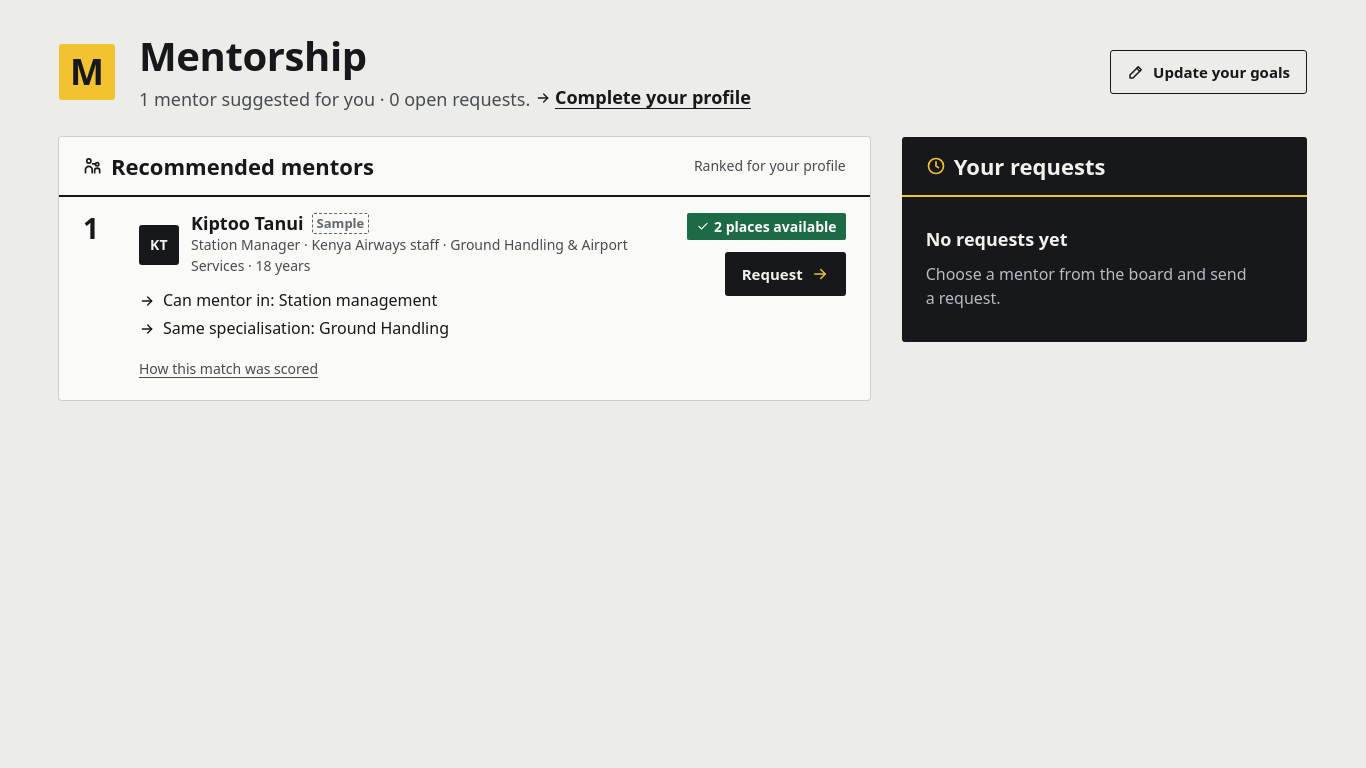
Test: Mentorship for a mentee › sends a request with the recommendation it came from
Click the button "Request". click: click(785, 274)
box: [725,252,846,296]
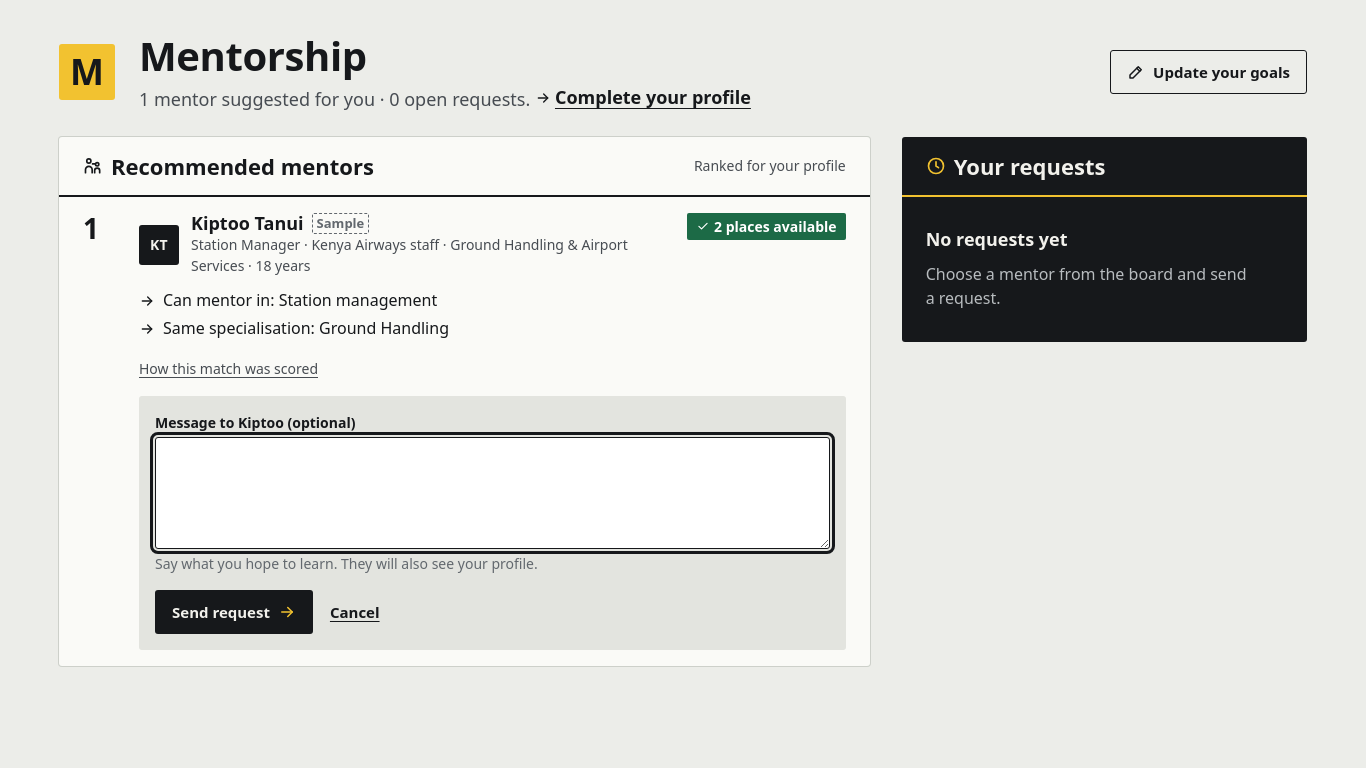
Type "Hello" into the text box labelled "Message to Kiptoo (optional)". click: (492, 494)
box: [155,438,830,550]
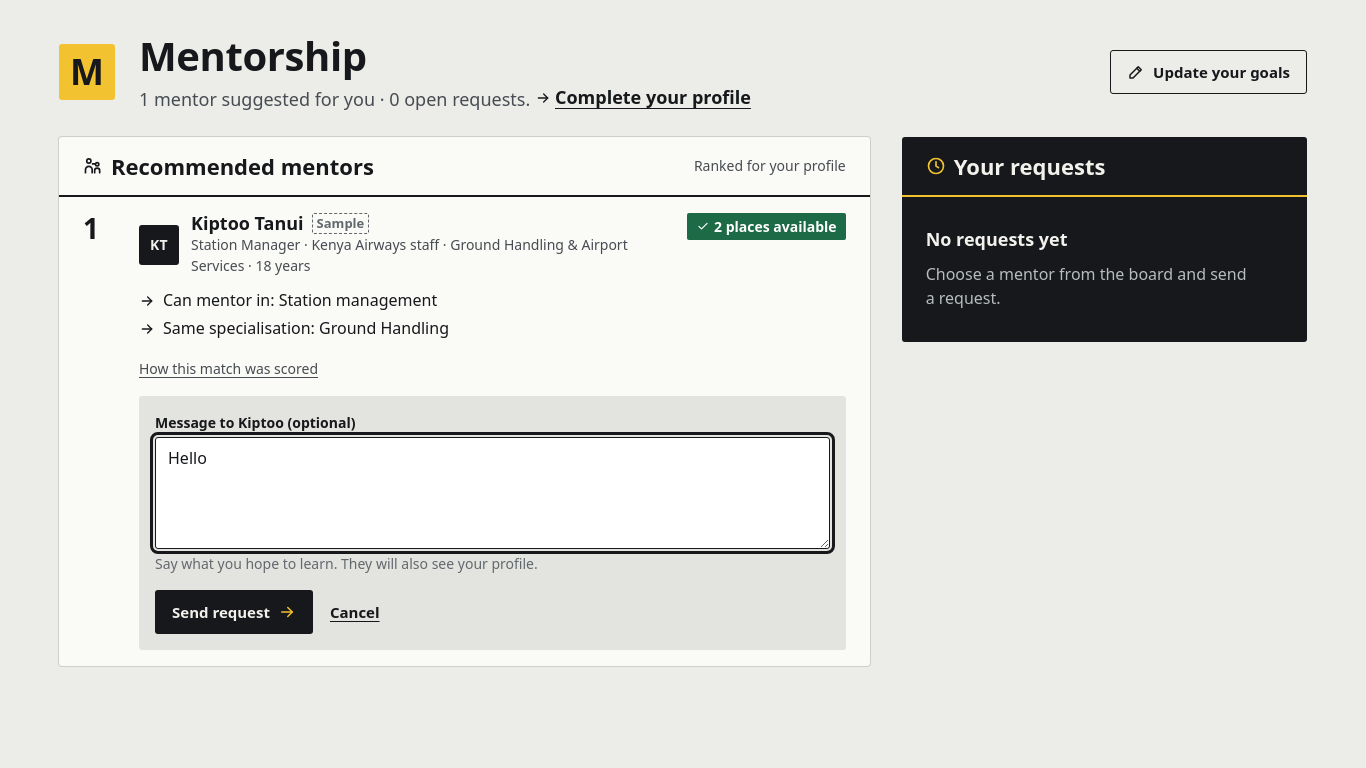
Click the button "Send request". click: click(234, 612)
box: [155,590,313,634]
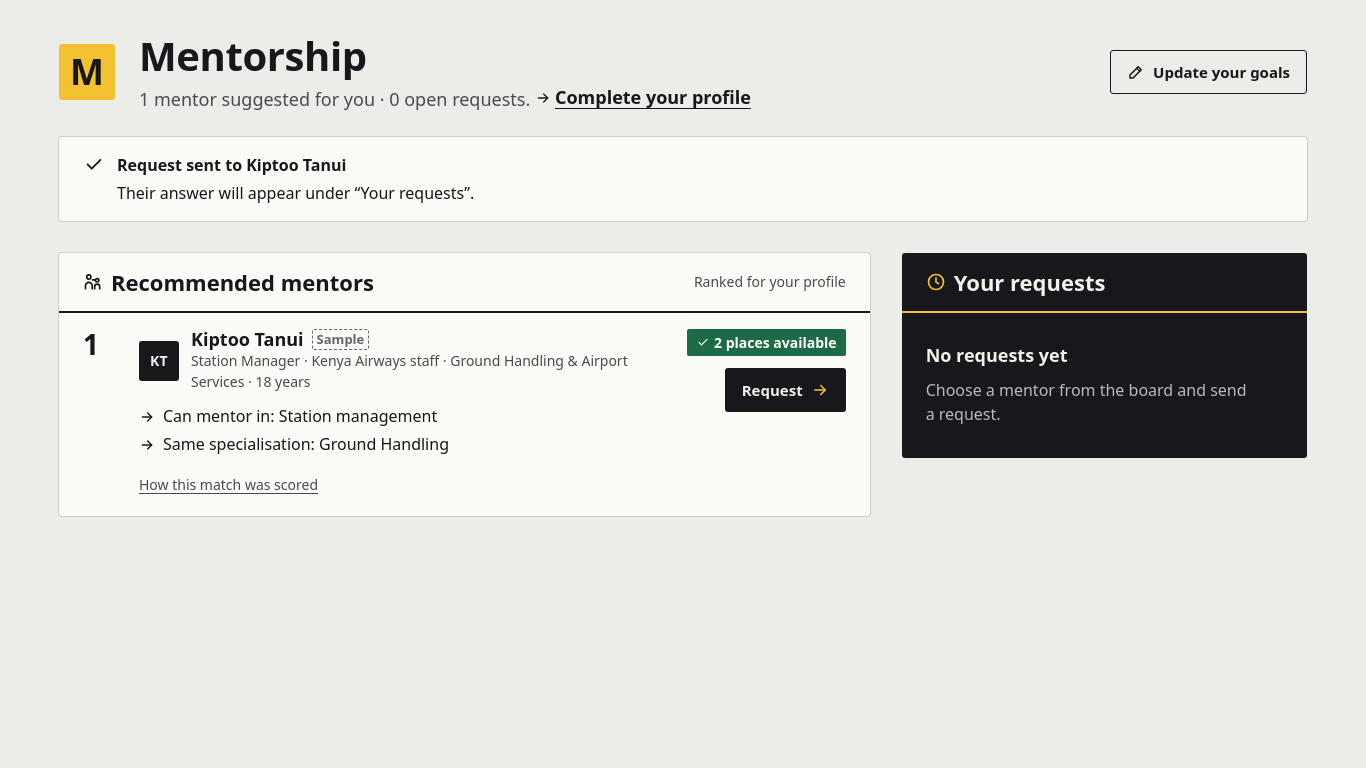
Expected: the text "Request sent to Kiptoo Tanui" is shown, [117,154,346,176]
